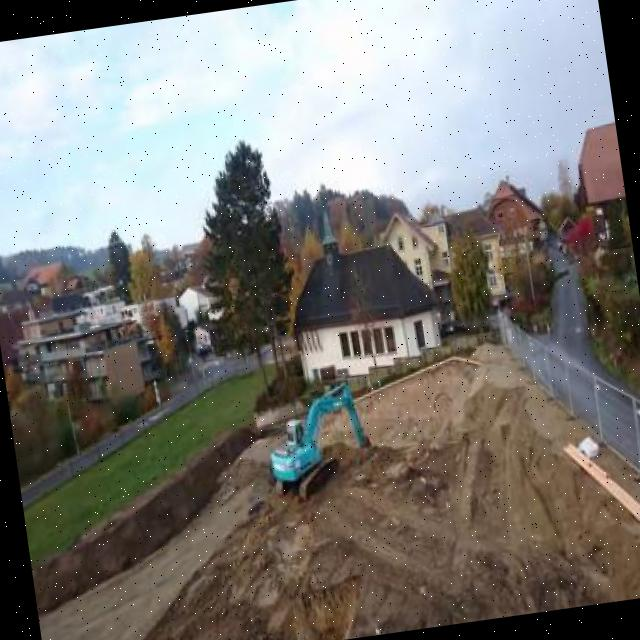Excavator: (260, 374, 380, 506)
